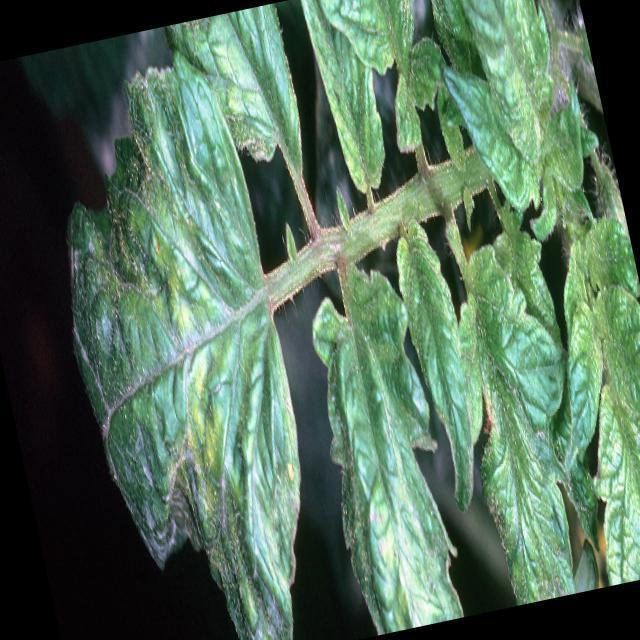Mosaic Virus: (18, 60, 339, 640), (303, 269, 460, 623), (443, 257, 591, 606), (439, 0, 594, 227), (543, 234, 640, 585), (316, 0, 463, 187), (173, 2, 314, 185), (392, 228, 480, 486)
